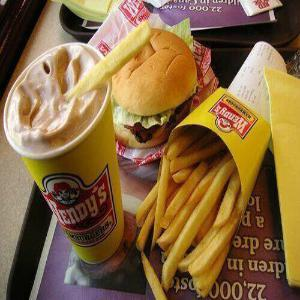cheeseburger: (103, 21, 198, 150)
fries: (139, 131, 242, 299)
